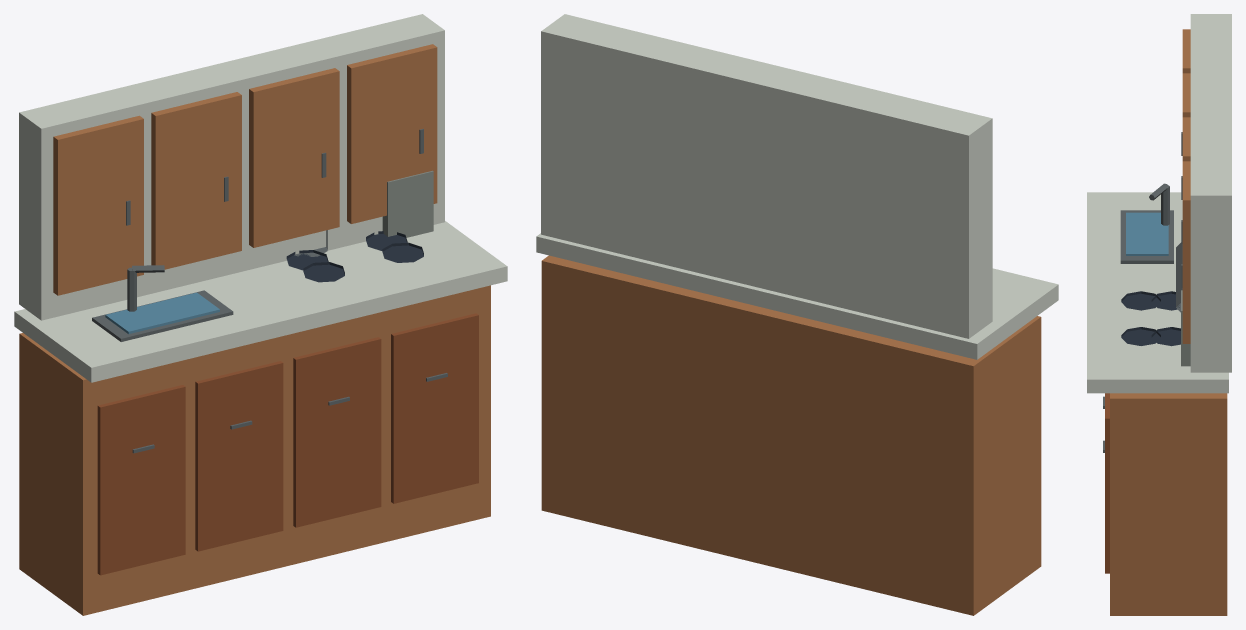
The model's file is caravan_kitchen.glb.
The picture shows the model from 3 angles, left to right: view 1: azimuth 30°, elevation 25°; view 2: azimuth 150°, elevation 25°; view 3: azimuth 270°, elevation 25°; orthographic projection. The views are drawn at different scales.
Size of the model in its own units: 1.6 by 1.67 by 0.5225.
1 material, 1 textured.
